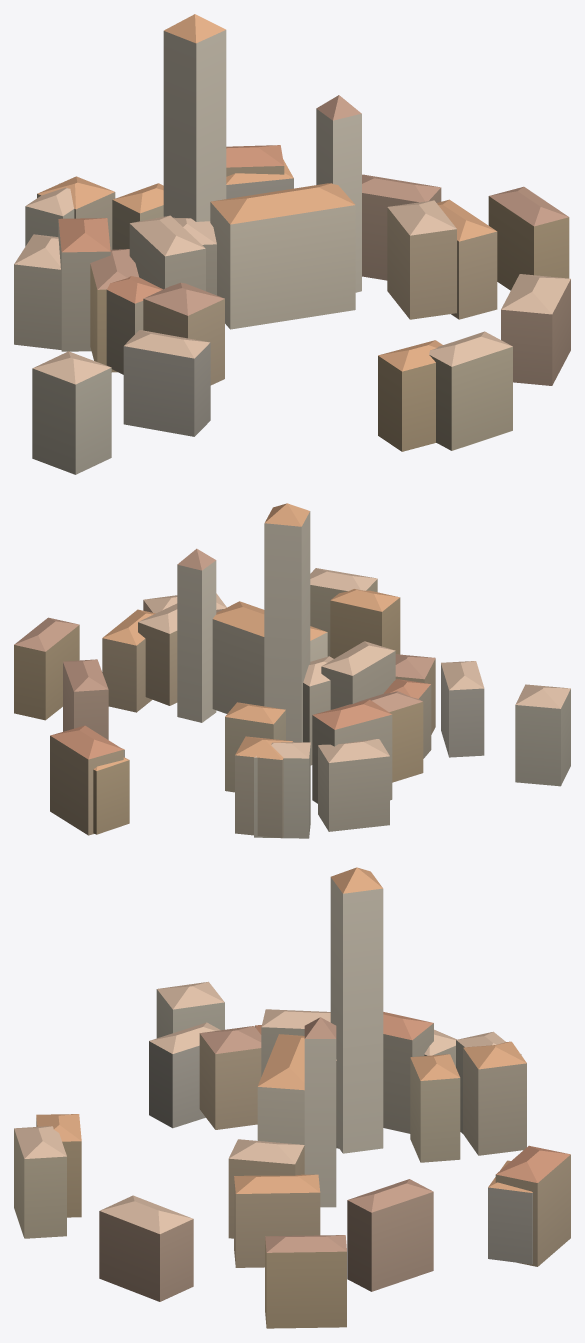
Rendered from SM_BM_BVV_Village_6.glb.
3 renders of one model, top to bottom at view 1: azimuth 30°, elevation 25°; view 2: azimuth 150°, elevation 25°; view 3: azimuth 270°, elevation 25°, orthographic. The views are drawn at different scales.
Parts seen in each view (by area): view 1: SM_BM_BVV_Village_6; view 2: SM_BM_BVV_Village_6; view 3: SM_BM_BVV_Village_6.
Boxes of the visible parts, box(x1,y1,x2,y2) form: SM_BM_BVV_Village_6: box(14, 14, 570, 474); SM_BM_BVV_Village_6: box(14, 503, 570, 838); SM_BM_BVV_Village_6: box(14, 867, 570, 1328).
Bounding box in the file's own units: 147 × 82.66 × 132.
